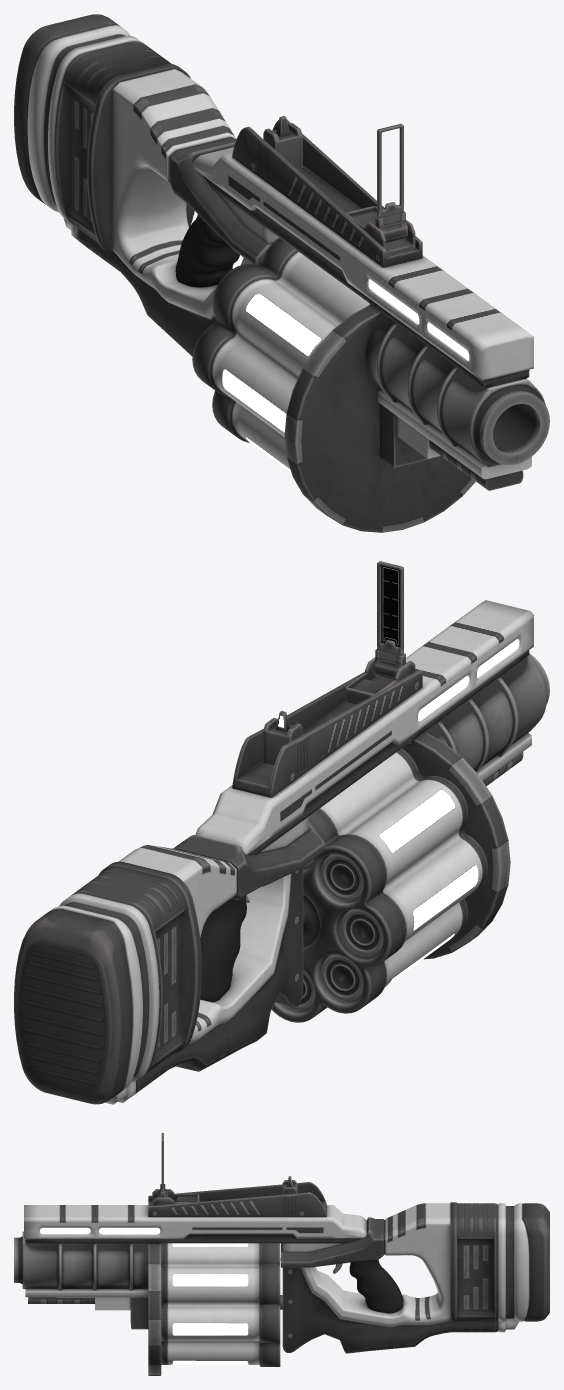
Rendered from SciFiGrenadeLauncher01_2.FBX.
The picture shows the model from 3 angles, top to bottom: view 1: azimuth 30°, elevation 25°; view 2: azimuth 150°, elevation 25°; view 3: azimuth 270°, elevation 25°; orthographic projection. The views are drawn at different scales.
Visible parts, largest first — view 1: SciFiGrenadeLauncher01_2, Drum, FrontSight2, RearSight, FrontSight1; view 2: SciFiGrenadeLauncher01_2, Drum, FrontSight2, Grenade4, Grenade2, Grenade3, SightImage, FrontSight1, RearSight; view 3: SciFiGrenadeLauncher01_2, Drum, FrontSight1.
Part boxes in pixels (x1,y1,x2,y2): SciFiGrenadeLauncher01_2: [14, 14, 549, 532]; Drum: [192, 237, 370, 472]; FrontSight2: [375, 124, 407, 243]; RearSight: [263, 116, 302, 169]; FrontSight1: [346, 206, 415, 254]; SciFiGrenadeLauncher01_2: [14, 600, 549, 1104]; Drum: [272, 748, 487, 1022]; FrontSight2: [373, 561, 406, 680]; Grenade4: [320, 955, 362, 1001]; Grenade2: [320, 854, 362, 900]; Grenade3: [340, 909, 382, 955]; SightImage: [381, 565, 399, 646]; FrontSight1: [345, 657, 415, 704]; RearSight: [263, 711, 302, 765]; SciFiGrenadeLauncher01_2: [14, 1182, 549, 1375]; Drum: [161, 1243, 282, 1366]; FrontSight1: [152, 1189, 199, 1205].
Size of what is drawn, in the model's own units: 0.2416 by 0.4212 by 0.8794.
